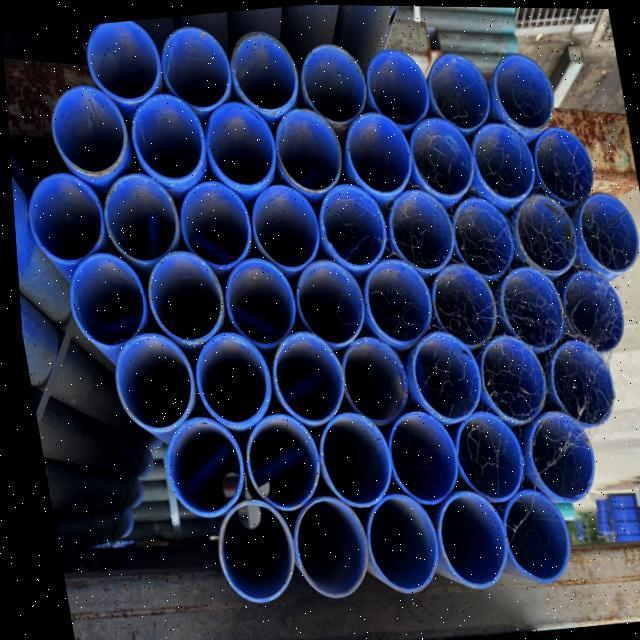pipe: (155, 419, 241, 522), (279, 500, 365, 602), (208, 502, 290, 607), (54, 256, 144, 351), (109, 334, 193, 435), (311, 409, 386, 509), (362, 493, 436, 594), (487, 491, 566, 585), (379, 409, 456, 505), (145, 252, 224, 345), (403, 329, 482, 420), (190, 338, 267, 430), (434, 490, 504, 591), (27, 175, 103, 268), (239, 414, 311, 511), (100, 174, 176, 265), (266, 337, 340, 430), (173, 177, 250, 265), (131, 96, 204, 186), (219, 259, 294, 346), (313, 183, 388, 269), (49, 84, 123, 171), (85, 21, 159, 107), (522, 410, 591, 502), (291, 255, 363, 343), (336, 341, 407, 430), (424, 256, 492, 348), (474, 334, 543, 423), (247, 181, 316, 270), (451, 414, 519, 502), (357, 257, 429, 340), (204, 105, 275, 189), (545, 338, 611, 427), (272, 109, 341, 194), (343, 113, 411, 199), (160, 23, 231, 104), (298, 42, 369, 122), (229, 27, 299, 108), (409, 117, 476, 201), (385, 188, 451, 270), (468, 123, 534, 205), (496, 266, 560, 350), (449, 196, 513, 278), (575, 189, 635, 276), (365, 50, 429, 131), (424, 52, 490, 130), (512, 193, 574, 276), (559, 265, 620, 348), (531, 124, 591, 206), (488, 50, 550, 128)
